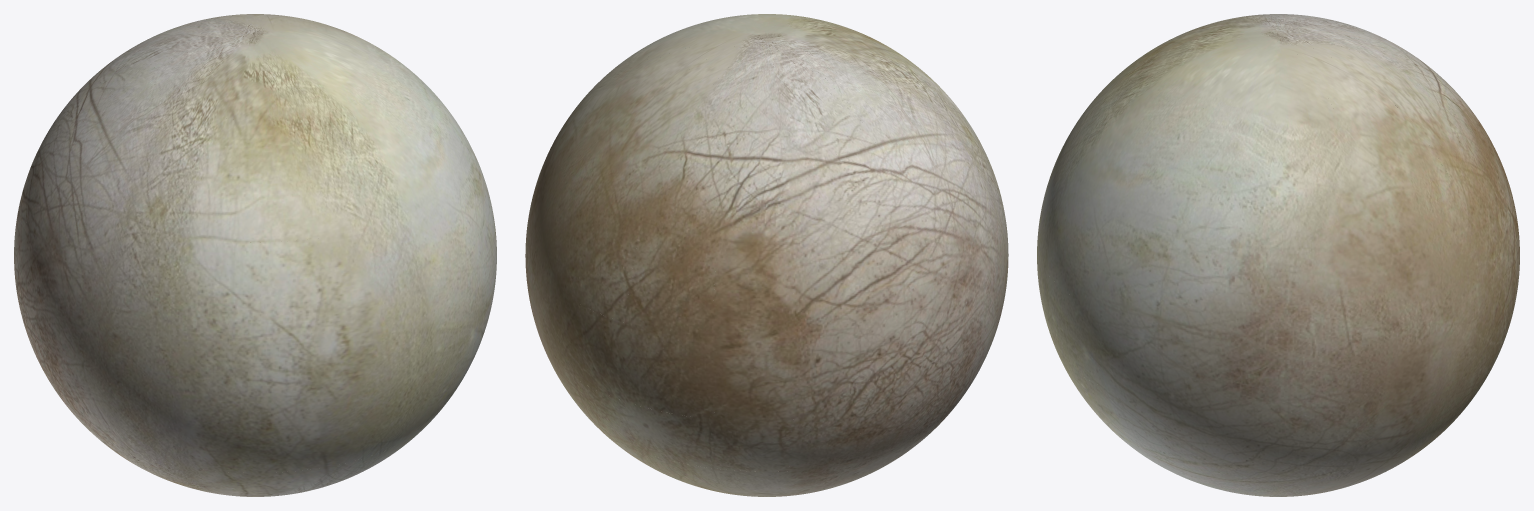
The model's file is europa-v1.glb.
The picture shows the model from 3 angles, left to right: view 1: azimuth 30°, elevation 25°; view 2: azimuth 150°, elevation 25°; view 3: azimuth 270°, elevation 25°; orthographic projection.
Visible parts, largest first — view 1: Europa; view 2: Europa; view 3: Europa.
Boxes of the visible parts, x1,y1,x2,y2 form: Europa: (14, 14, 496, 496); Europa: (525, 14, 1008, 496); Europa: (1037, 14, 1519, 496).
Size of the model in its own units: 2000 by 2000 by 2000.
Materials: 1 (1 with a texture image).
